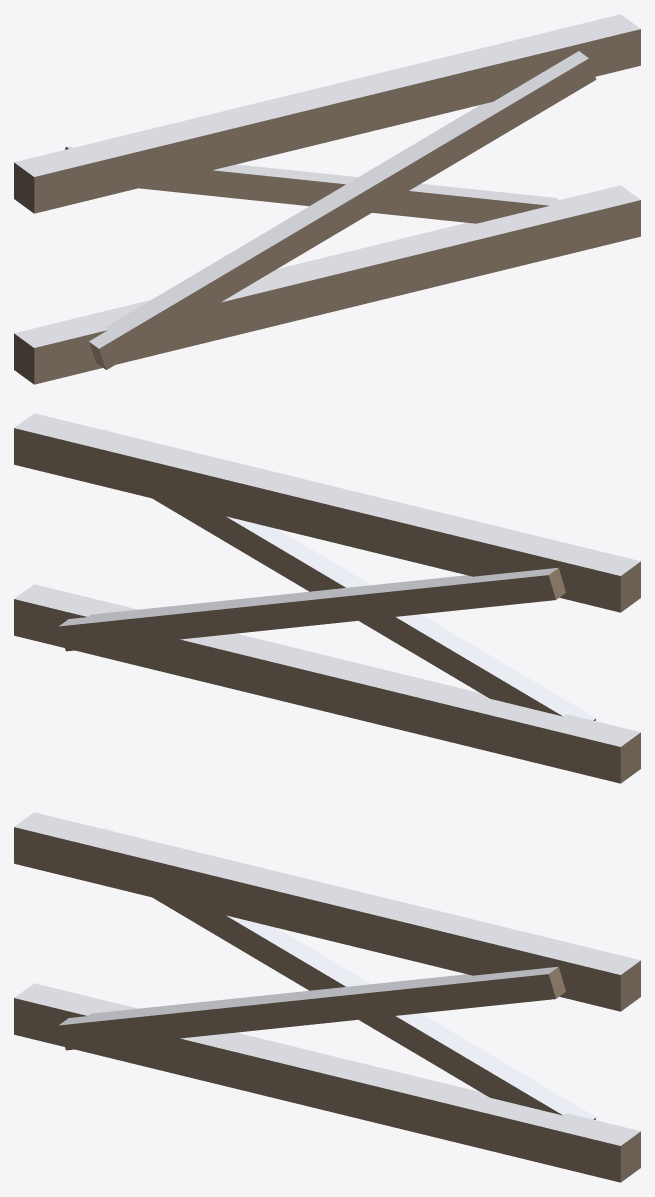
File: PR_Beco_Escora.fbx
The picture shows the model from 3 angles, top to bottom: view 1: azimuth 30°, elevation 25°; view 2: azimuth 150°, elevation 25°; view 3: azimuth 330°, elevation 25°; orthographic projection.
Parts seen in each view (by area): view 1: PR_Beco_Escora; view 2: PR_Beco_Escora; view 3: PR_Beco_Escora.
Boxes of the visible parts, x1,y1,x2,y2 form: PR_Beco_Escora: [14, 14, 640, 384]; PR_Beco_Escora: [14, 413, 640, 783]; PR_Beco_Escora: [14, 812, 640, 1182].
Size of the model in its own units: 5.2 by 1.7 by 0.6.
